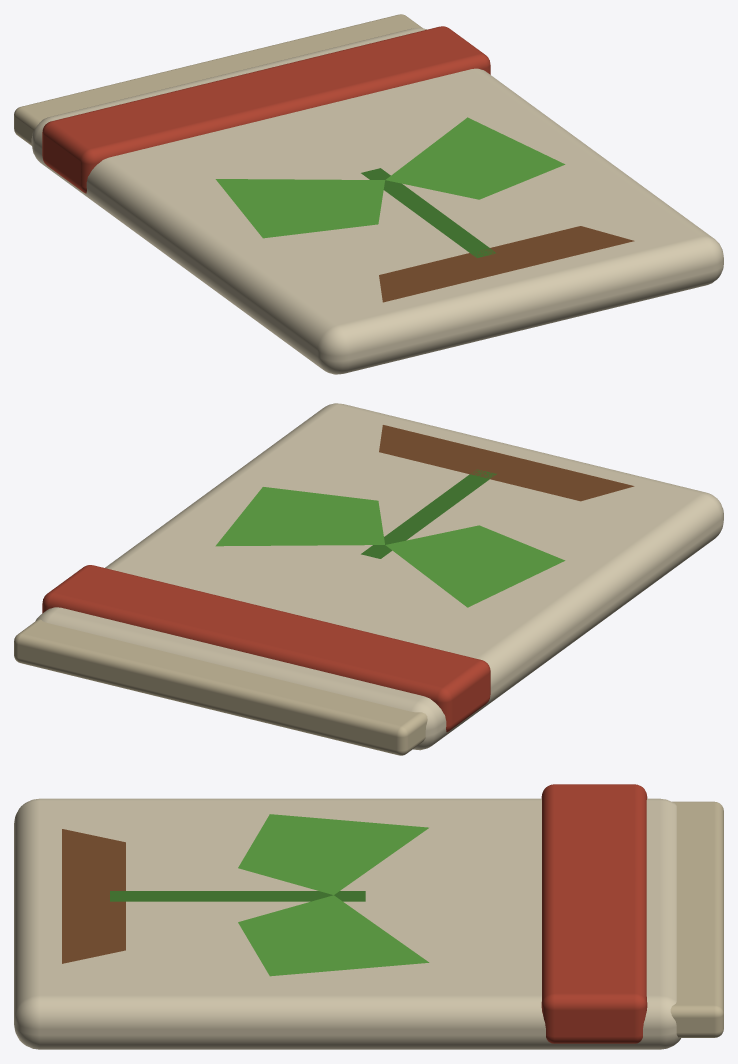
Rendered from item_seedbag.glb.
3 renders of one model, top to bottom at view 1: azimuth 30°, elevation 25°; view 2: azimuth 150°, elevation 25°; view 3: azimuth 270°, elevation 25°, orthographic. The views are drawn at different scales.
Parts seen in each view (by area): view 1: item_seedbag_main; view 2: item_seedbag_main; view 3: item_seedbag_main.
Part boxes in pixels (bbox=[...]): item_seedbag_main: bbox=[14, 14, 723, 374]; item_seedbag_main: bbox=[14, 403, 723, 755]; item_seedbag_main: bbox=[14, 784, 723, 1049].
Bounding box in the file's own units: 0.162 × 0.021 × 0.222.
